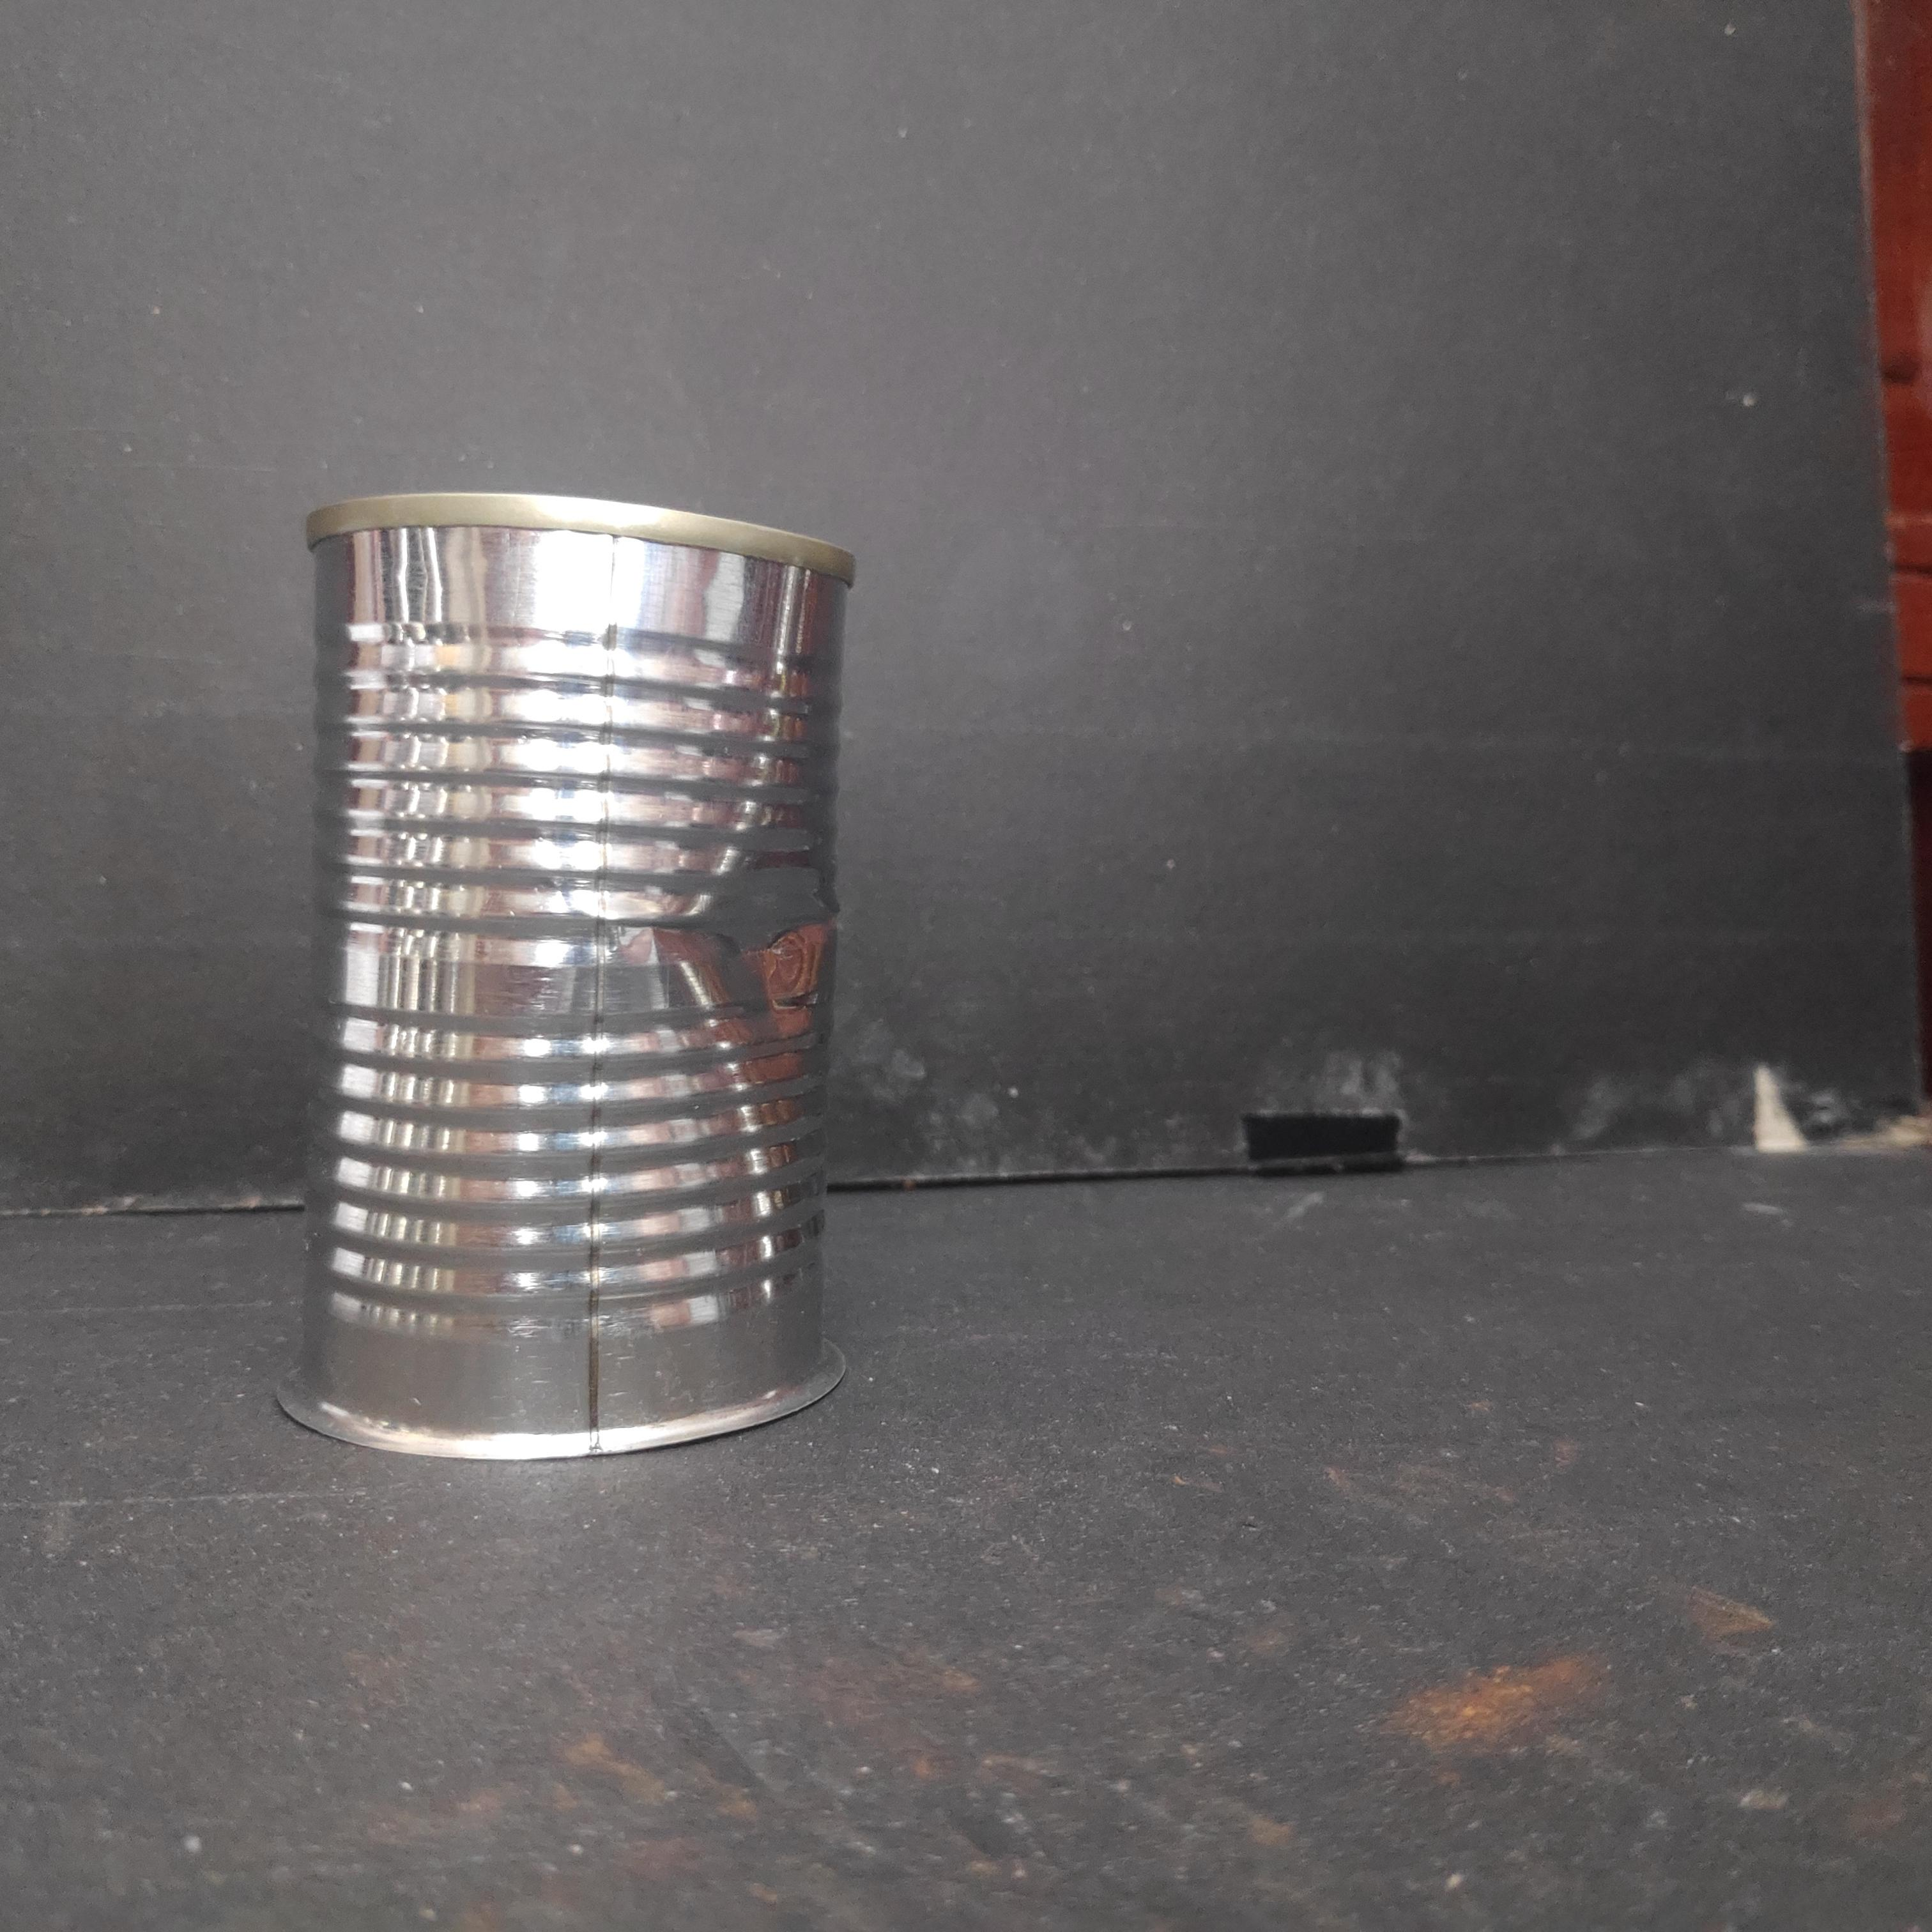Minor Defect: (280, 479, 863, 1461)
